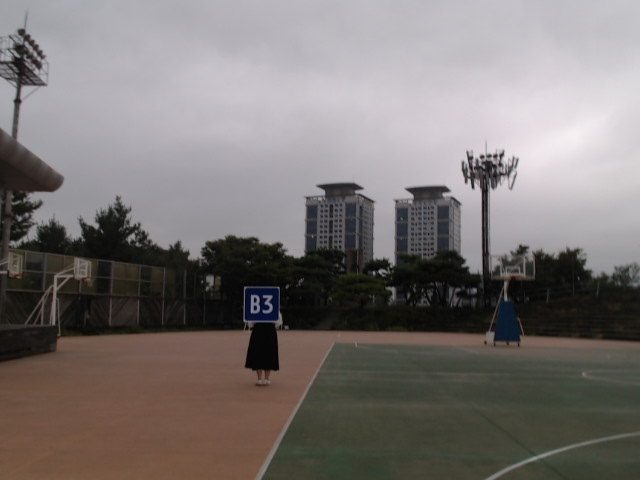delivery_b3: (245, 287, 281, 322)
